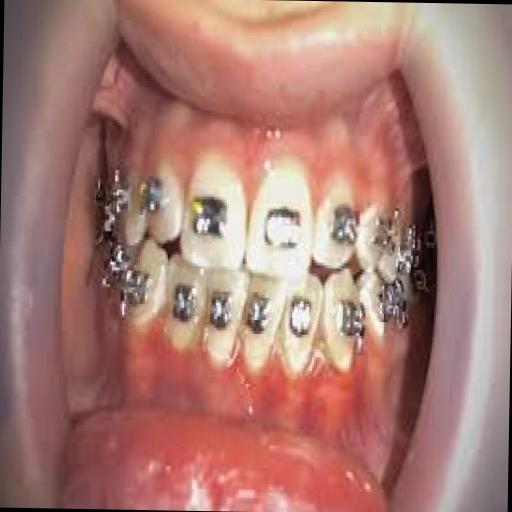correct_brace: (260, 199, 306, 256), (187, 186, 229, 246), (328, 194, 360, 254), (336, 294, 370, 348), (287, 292, 317, 348), (120, 260, 150, 316), (206, 282, 235, 338), (172, 273, 198, 334), (245, 282, 272, 339), (138, 173, 164, 221), (370, 210, 396, 252), (111, 170, 132, 217)
incorrect_brace: (316, 178, 364, 278), (282, 268, 322, 378), (164, 256, 204, 360), (145, 164, 184, 250)
